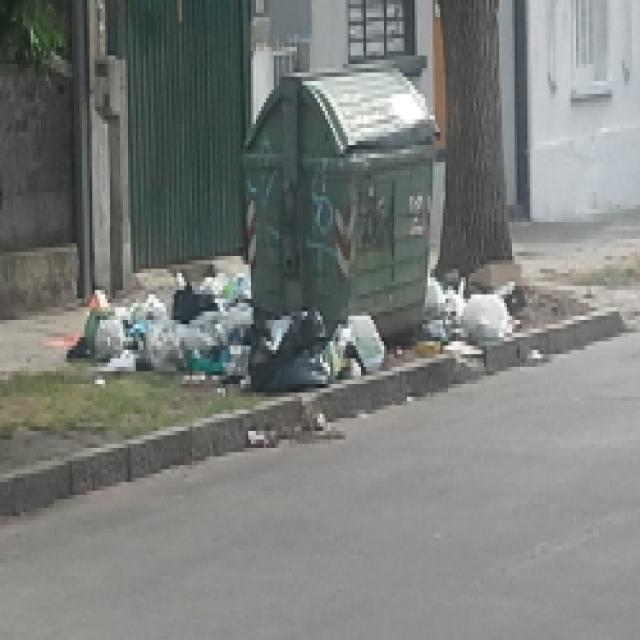garbage: (72, 264, 251, 367), (238, 312, 389, 401), (425, 260, 522, 354)
